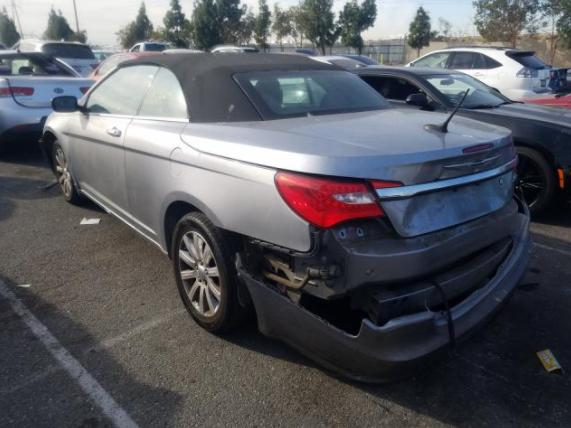Back-bumper: (217, 197, 530, 385)
Back-wheel: (172, 211, 256, 333)
Back-window: (139, 67, 188, 119)
Back-windshield: (231, 70, 398, 121)
Fender: (41, 110, 82, 194)
Front-door: (78, 65, 161, 227)
Front-wheel: (53, 139, 88, 205)
Front-window: (84, 65, 161, 117)
Mirror: (51, 96, 84, 112)
Quarter-panel: (123, 116, 310, 257)
Roof: (119, 52, 346, 73)
Tail-light: (274, 169, 404, 230), (509, 150, 518, 176)
Trunk: (181, 108, 518, 237)
